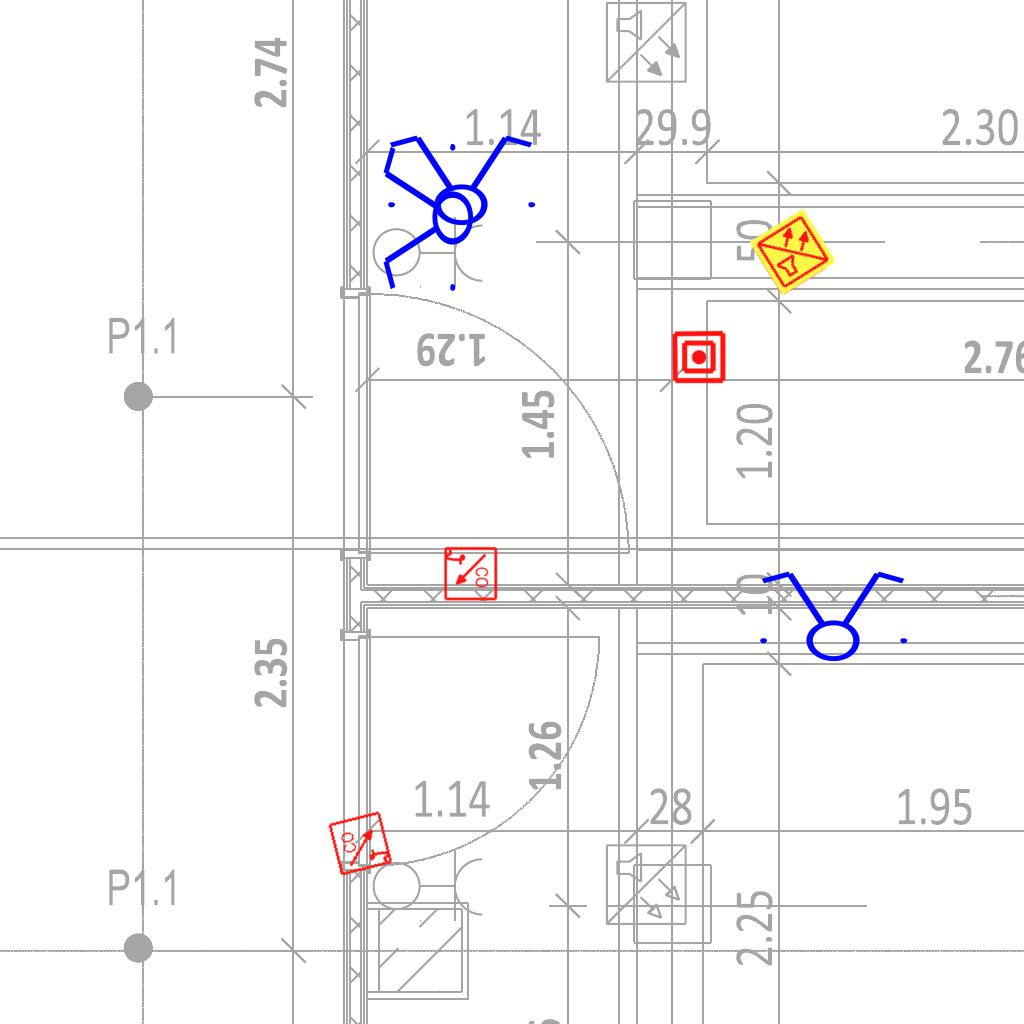NAM-Nichtautomatischer_Melder: (671, 329, 727, 385)
OKW_Multisensormelder_(Kombination_optischer_Rauch-Kahlenmonoxid_Waerme-Melder): (747, 206, 839, 298)
ROA_Rauchmelder_optisch_mit_Signalgeber_(Sockelsirene): (327, 809, 395, 877), (442, 546, 498, 602)
Serienschalter: (748, 567, 916, 663), (376, 131, 544, 227), (379, 135, 475, 303)
